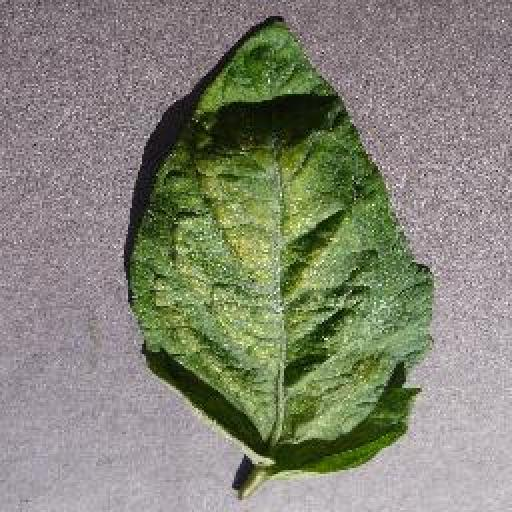Spider Mites: (128, 17, 439, 472)
